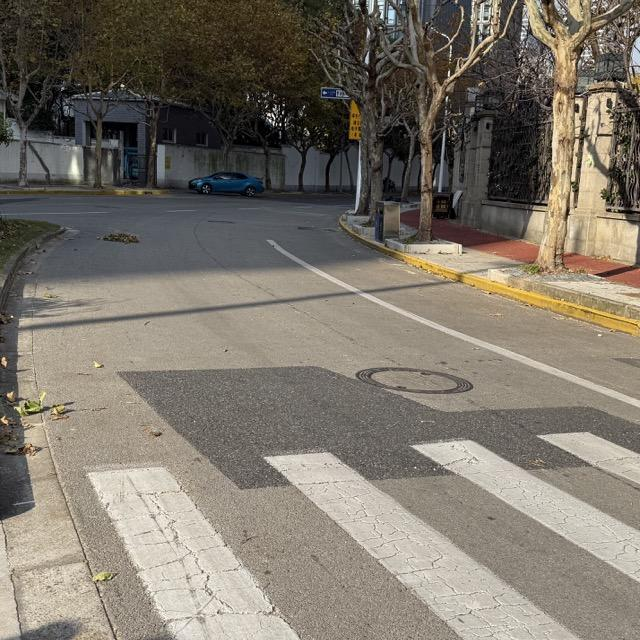curb: (340, 221, 640, 335), (487, 269, 640, 322), (0, 227, 66, 310), (386, 239, 462, 254), (343, 214, 375, 239)
